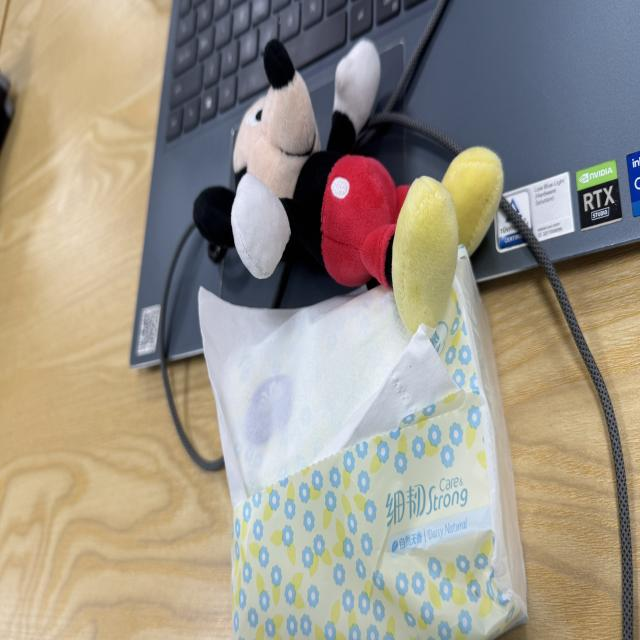mickey: (194, 41, 503, 332)
tissue: (199, 242, 528, 640)
